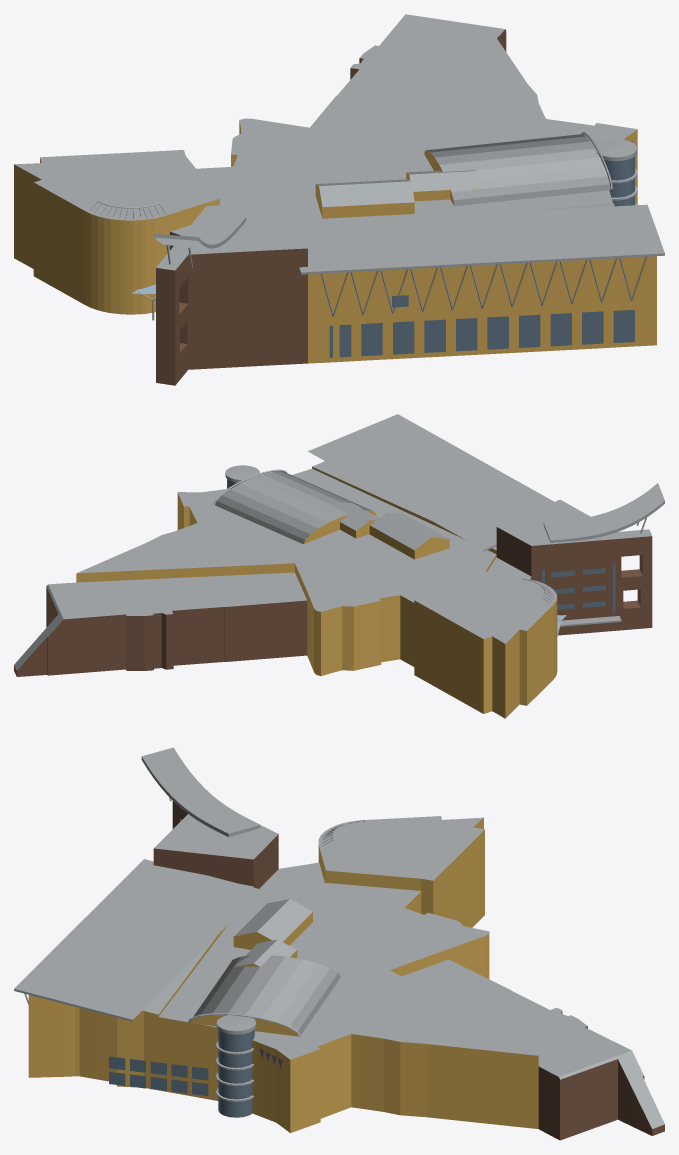
File: wellington-te-papa.glb
The picture shows the model from 3 angles, top to bottom: view 1: azimuth 30°, elevation 25°; view 2: azimuth 150°, elevation 25°; view 3: azimuth 270°, elevation 25°; orthographic projection. The views are drawn at different scales.
Parts seen in each view (by area): view 1: Museum of New Zealand Te Papa Tongarewa; view 2: Museum of New Zealand Te Papa Tongarewa; view 3: Museum of New Zealand Te Papa Tongarewa.
Boxes of the visible parts, left/top/right/bottom form: Museum of New Zealand Te Papa Tongarewa: left=14, top=14, right=664, bottom=385; Museum of New Zealand Te Papa Tongarewa: left=14, top=414, right=664, bottom=718; Museum of New Zealand Te Papa Tongarewa: left=14, top=747, right=664, bottom=1140.
Size of the model in its own units: 154 by 41.6 by 169.
